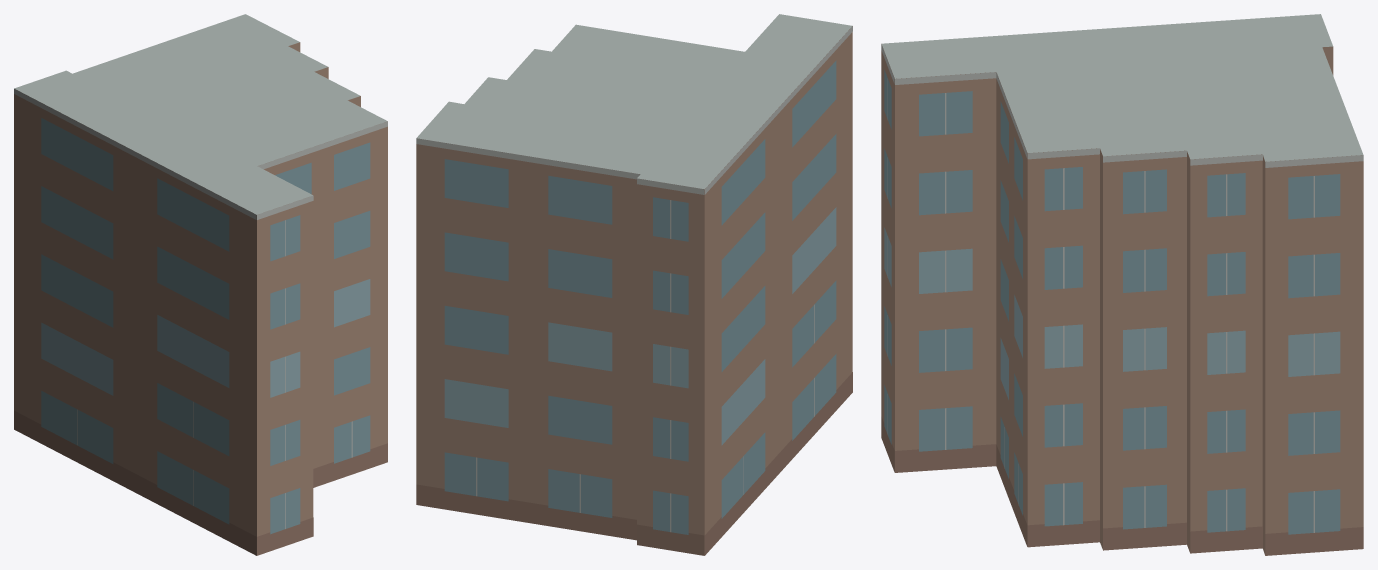
File: survey-upis-32959842.glb
The picture shows the model from 3 angles, left to right: view 1: azimuth 30°, elevation 25°; view 2: azimuth 150°, elevation 25°; view 3: azimuth 270°, elevation 25°; orthographic projection. The views are drawn at different scales.
Parts seen in each view (by area): view 1: survey-upis-32959842.tmp; view 2: survey-upis-32959842.tmp; view 3: survey-upis-32959842.tmp.
Part boxes in pixels (<box>): survey-upis-32959842.tmp: <box>14,14,387,555</box>; survey-upis-32959842.tmp: <box>416,14,852,555</box>; survey-upis-32959842.tmp: <box>881,14,1363,555</box>.
Bounding box in the file's own units: 12.4 × 15.4 × 17.09.
